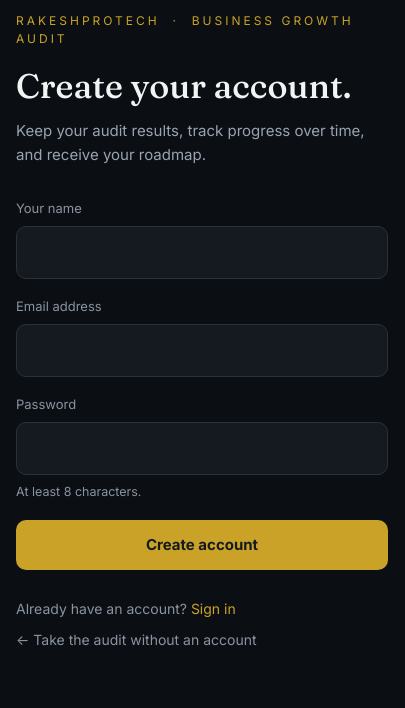
Test case: AuthForm — register › explains that an existing account should sign in instead
Type "jane@co.com" into the field labelled "Email address". click: (202, 351)
box: [16,324,388,377]
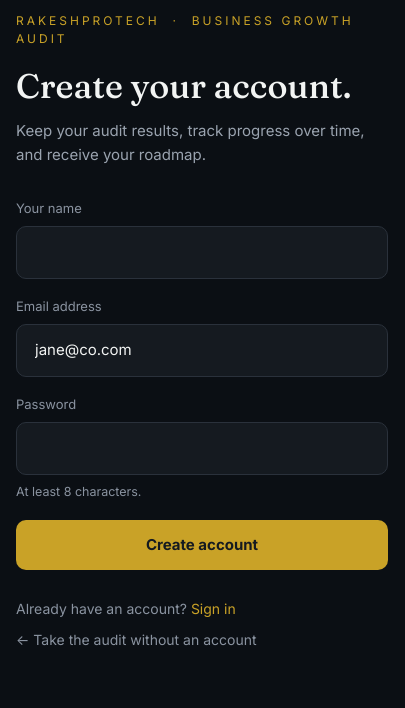
Type "longenough1" into the password field labelled "Password". click: (202, 449)
box: [16,422,388,475]
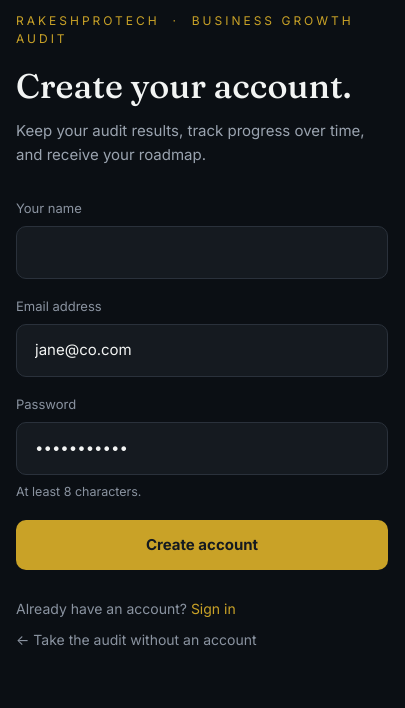
Click the button "Create account". click: (202, 545)
box: [16,520,388,570]
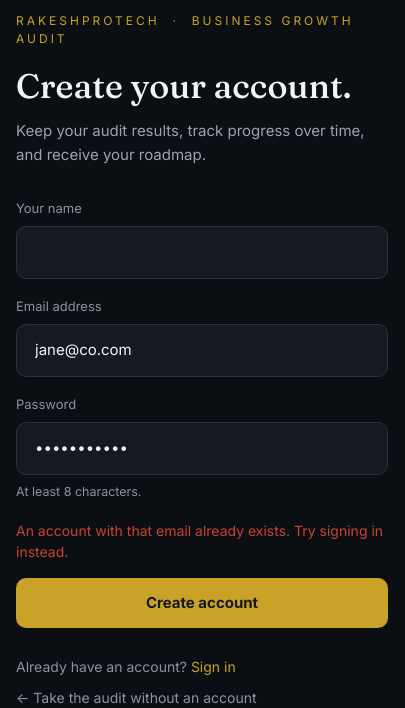
expect the message shows "already exists": met, box [16,522,383,560]
